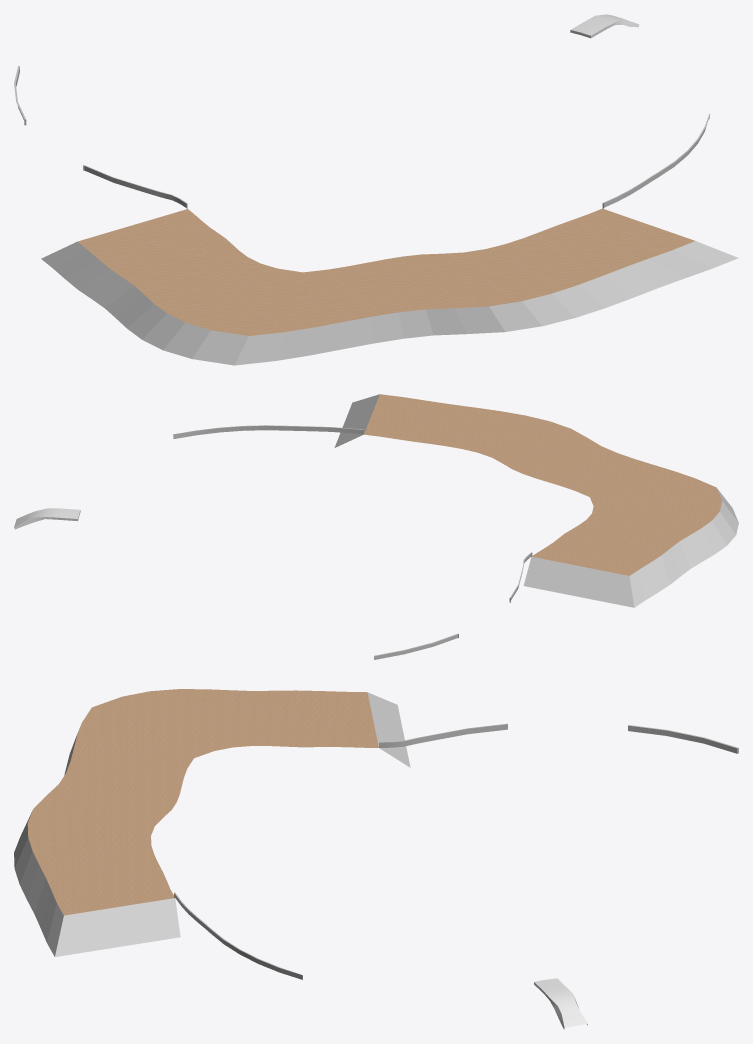
Rendered from props(1).FBX.
The picture shows the model from 3 angles, top to bottom: view 1: azimuth 30°, elevation 25°; view 2: azimuth 150°, elevation 25°; view 3: azimuth 270°, elevation 25°; orthographic projection. The views are drawn at different scales.
Parts seen in each view (by area): view 1: beach_part, border, Box001; view 2: beach_part, border, Box001; view 3: beach_part, border, Box001.
Boxes of the visible parts, left/top/right/bottom form: beach_part: left=41, top=208, right=738, bottom=365; border: left=14, top=66, right=709, bottom=208; Box001: left=570, top=14, right=639, bottom=38; beach_part: left=334, top=394, right=738, bottom=607; border: left=173, top=425, right=532, bottom=659; Box001: left=14, top=508, right=80, bottom=529; beach_part: left=14, top=689, right=410, bottom=956; border: left=174, top=723, right=738, bottom=979; Box001: left=534, top=978, right=587, bottom=1029.
Size of the model in its own units: 66834 by 2750 by 61640.
